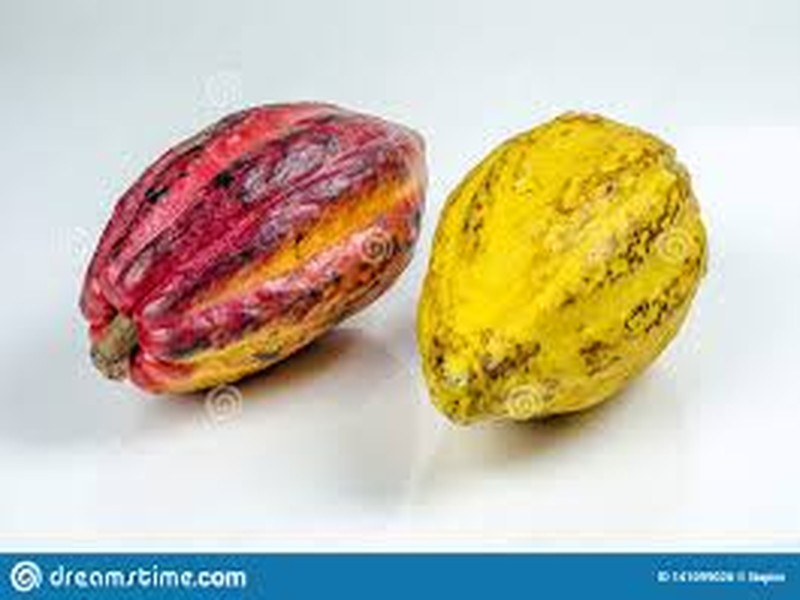Cacaopod: (417, 110, 708, 429)
